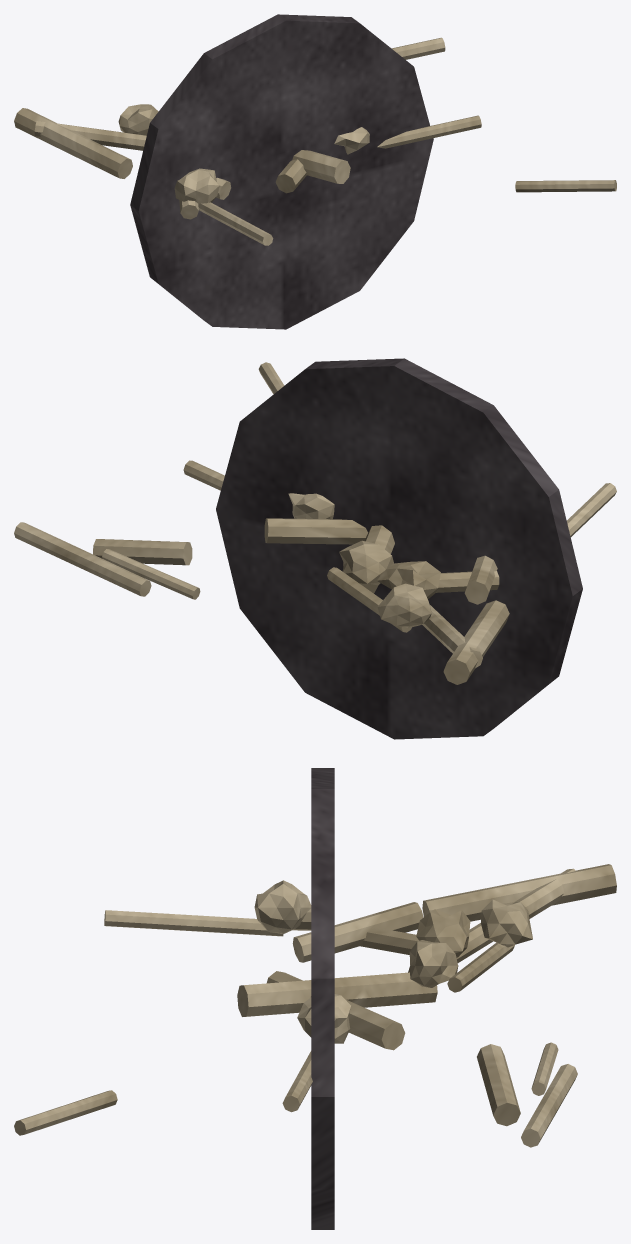
The model's file is 0237_bone_heap_12.glb.
The picture shows the model from 3 angles, top to bottom: view 1: azimuth 30°, elevation 25°; view 2: azimuth 150°, elevation 25°; view 3: azimuth 270°, elevation 25°; orthographic projection. The views are drawn at different scales.
Parts seen in each view (by area): view 1: ash, bone; view 2: ash, bone; view 3: bone, ash.
Part boxes in pixels (bbox=[...]): ash: bbox=[130, 14, 433, 329]; bone: bbox=[14, 37, 616, 245]; ash: bbox=[216, 358, 582, 739]; bone: bbox=[14, 362, 616, 684]; bone: bbox=[14, 864, 616, 1147]; ash: bbox=[311, 768, 334, 1229].
Size of the model in its own units: 2.18 by 1.6 by 2.08.
2 materials, 2 textured.
